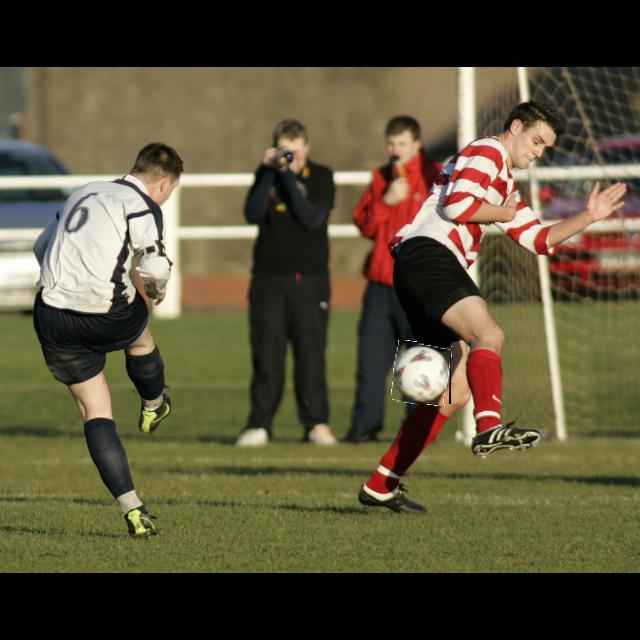Football: (393, 342, 451, 404)
